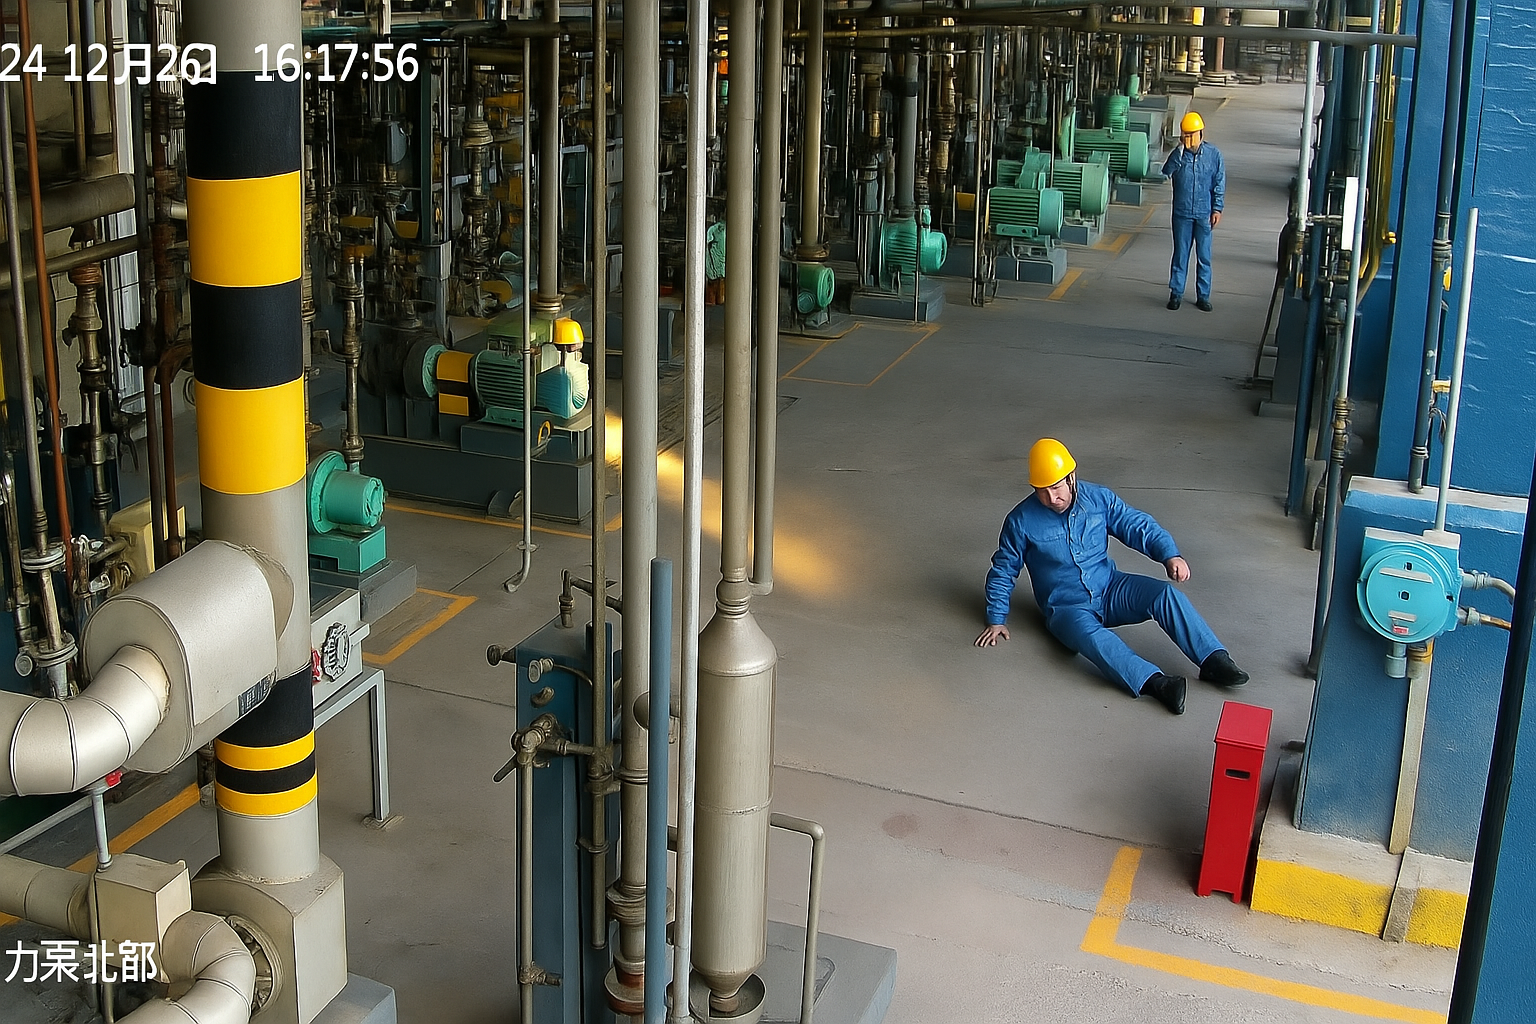trip: (938, 414, 1267, 718)
